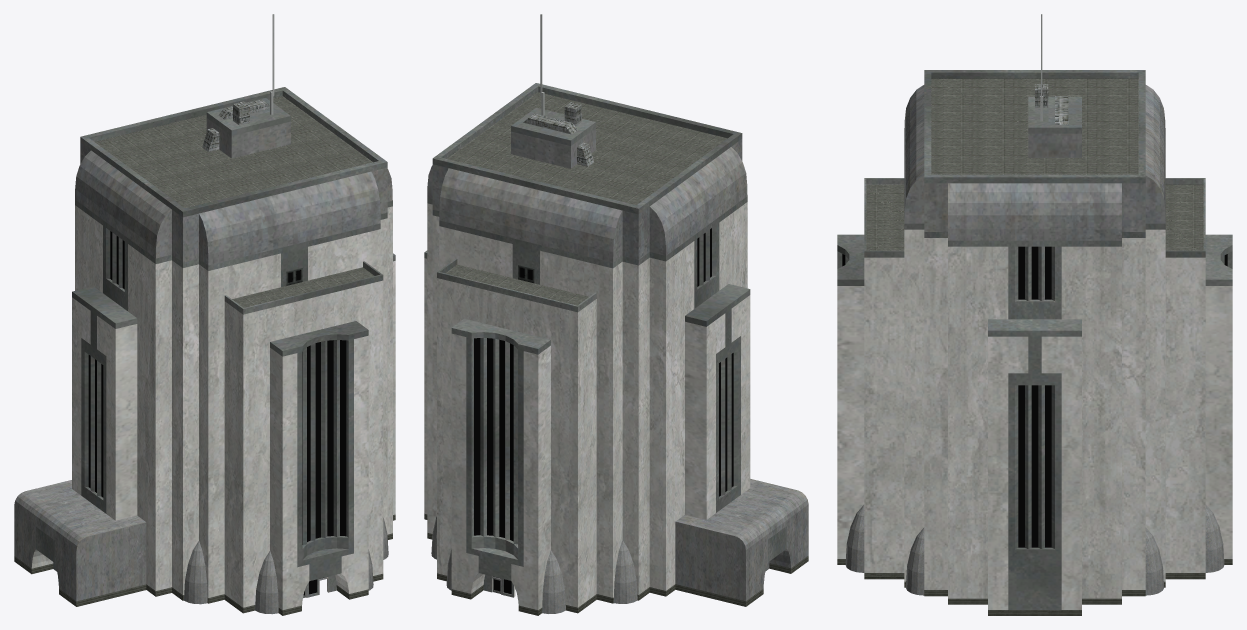
Rendered from thm_corl_imprv_building_s07_r0_mesh_l1.fbx.
The picture shows the model from 3 angles, left to right: view 1: azimuth 30°, elevation 25°; view 2: azimuth 150°, elevation 25°; view 3: azimuth 270°, elevation 25°; orthographic projection. The views are drawn at different scales.
Visible parts, largest first — view 1: mesh_node; view 2: mesh_node; view 3: mesh_node.
Boxes of the visible parts, left/top/right/bottom form: mesh_node: left=14, top=14, right=395, bottom=615; mesh_node: left=424, top=14, right=808, bottom=615; mesh_node: left=837, top=14, right=1232, bottom=615.
Bounding box in the file's own units: 61 × 90.7 × 59.
